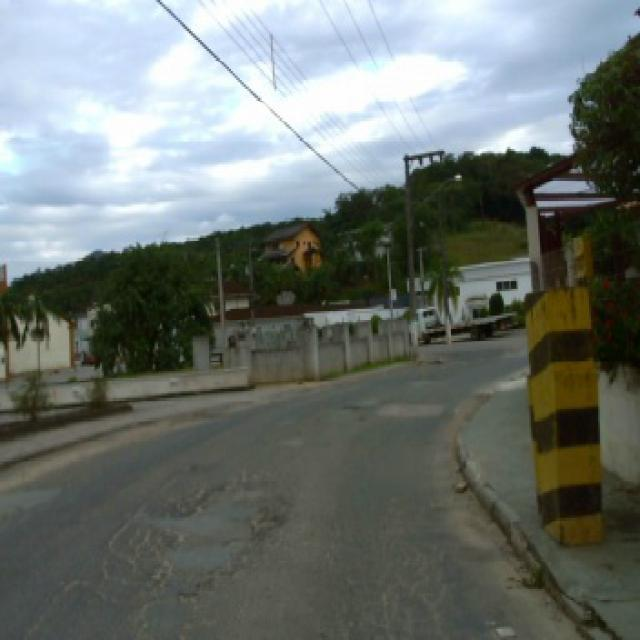Poth-hole: (96, 467, 289, 636), (360, 498, 449, 636), (370, 398, 446, 416), (514, 571, 544, 589), (491, 620, 516, 636), (336, 400, 364, 409), (450, 482, 468, 493), (425, 356, 442, 364)
